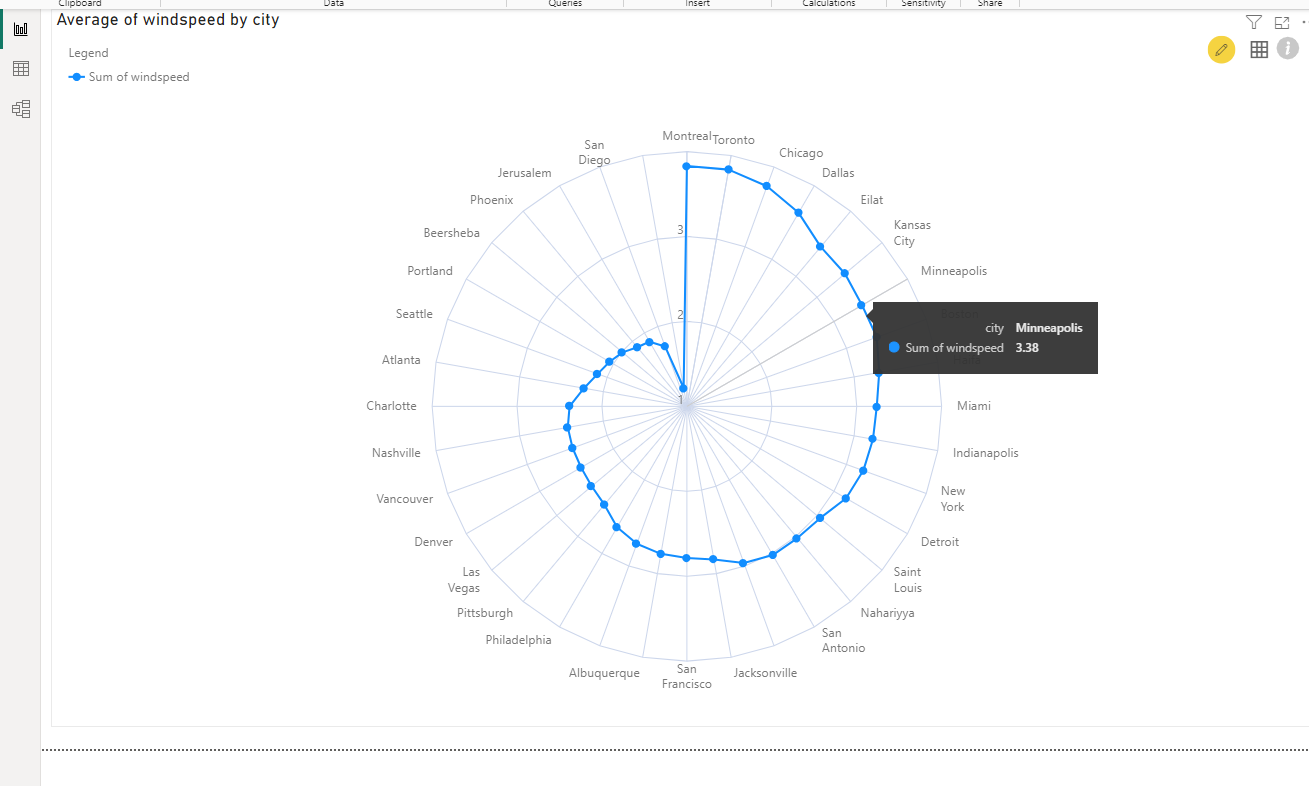

The page's visual inventory and layout, read from the dashboard file:
{"tool":"powerbi","page":{"name":"windspeedheatmap","canvas":[1280,720],"ordinal":2},"visuals":[{"type":"heatmapF244EA9EE1F34E828A80CF19B41976F8","title":"Avearge windspeed  by city","fields":{"location":["windspeed.city"],"value":["Sum(windspeed.pressure)"]},"box":[9.7,0,1159.4,668.2],"z":0}]}

Visuals, with their boxes on the page's 1280x720 design canvas (x1, y1, x2, y2). These are canvas units, not pixel positions in the 1309x786 screenshot, which may show the page scaled, cropped or inside an application window:
"Avearge windspeed  by city" heatmapF244EA9EE1F34E828A80CF19B41976F8: Rect(10, 0, 1169, 668)
